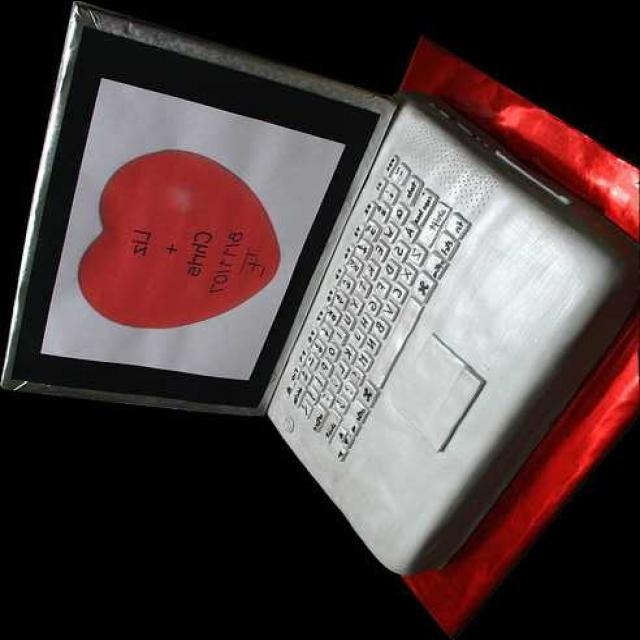laptop: (19, 21, 562, 562)
